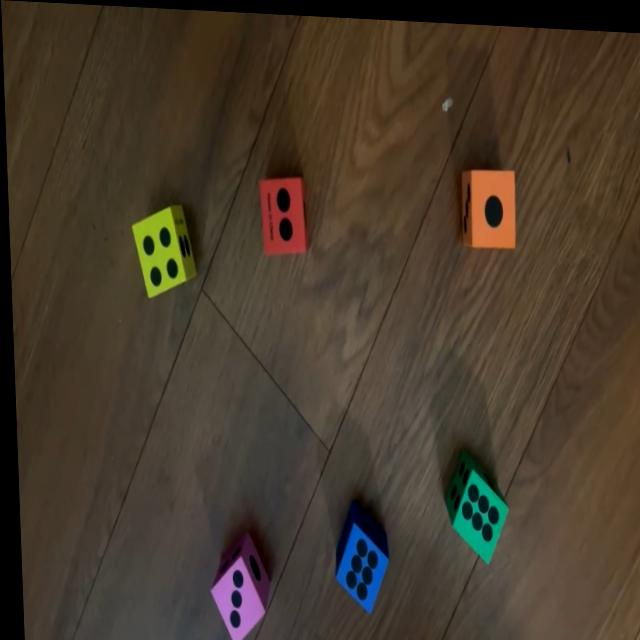blue_block: (327, 502, 386, 614)
red_block: (258, 168, 308, 254)
